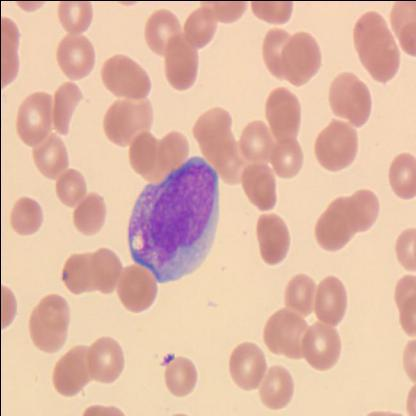Promyelocyte: (127, 156, 220, 284)
